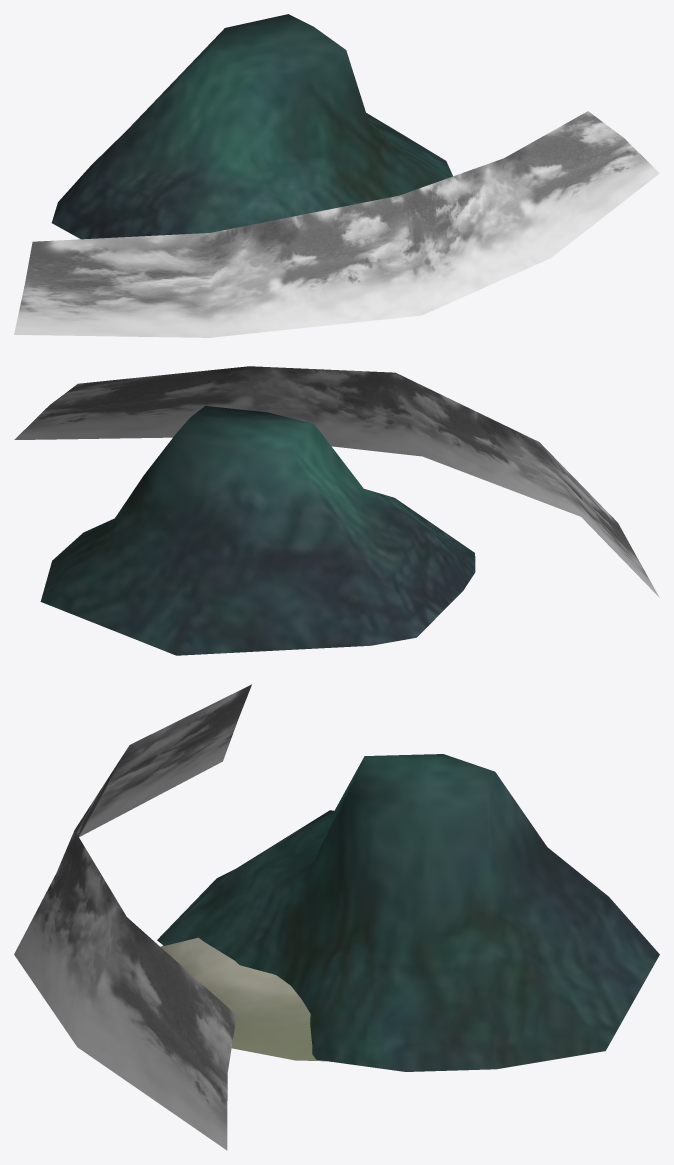
File: pir_m_are_isl_mysterious_05_low.fbx
The picture shows the model from 3 angles, top to bottom: view 1: azimuth 30°, elevation 25°; view 2: azimuth 150°, elevation 25°; view 3: azimuth 270°, elevation 25°; orthographic projection. The views are drawn at different scales.
Parts seen in each view (by area): view 1: fog, hill; view 2: hill, fog; view 3: hill, fog, ground2.
Boxes of the visible parts, box(x1,y1,x2,y2) form: fog: box(14, 111, 659, 337); hill: box(51, 14, 452, 239); hill: box(40, 406, 475, 655); fog: box(14, 366, 659, 597); hill: box(157, 754, 659, 1071); fog: box(14, 684, 251, 1150); ground2: box(160, 937, 326, 1061).
Bounding box in the file's own units: 278627 × 65101 × 194031.
2 materials, 2 textured.
